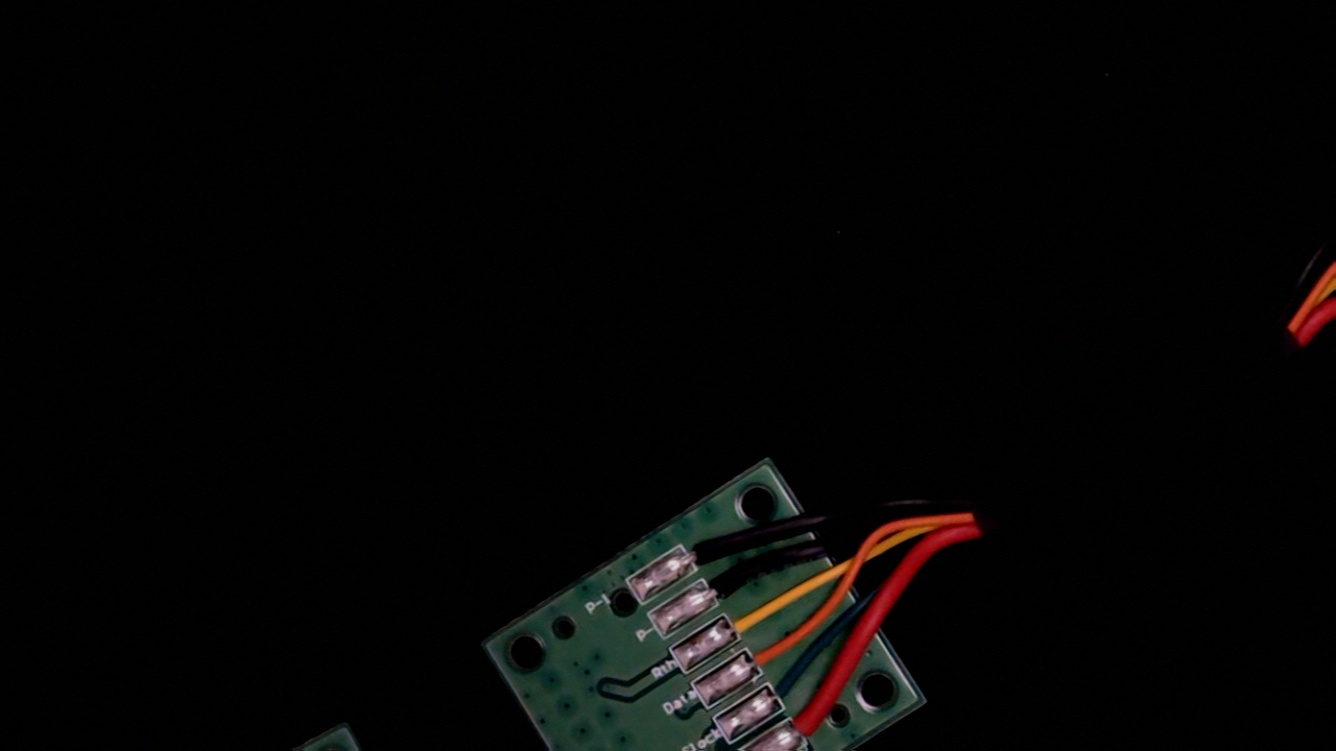Black: (690, 552, 766, 614)
Black1: (664, 515, 742, 580)
Green: (754, 662, 821, 721)
Orange: (730, 627, 800, 687)
Red: (775, 694, 845, 751)
Yellow: (710, 592, 782, 651)
